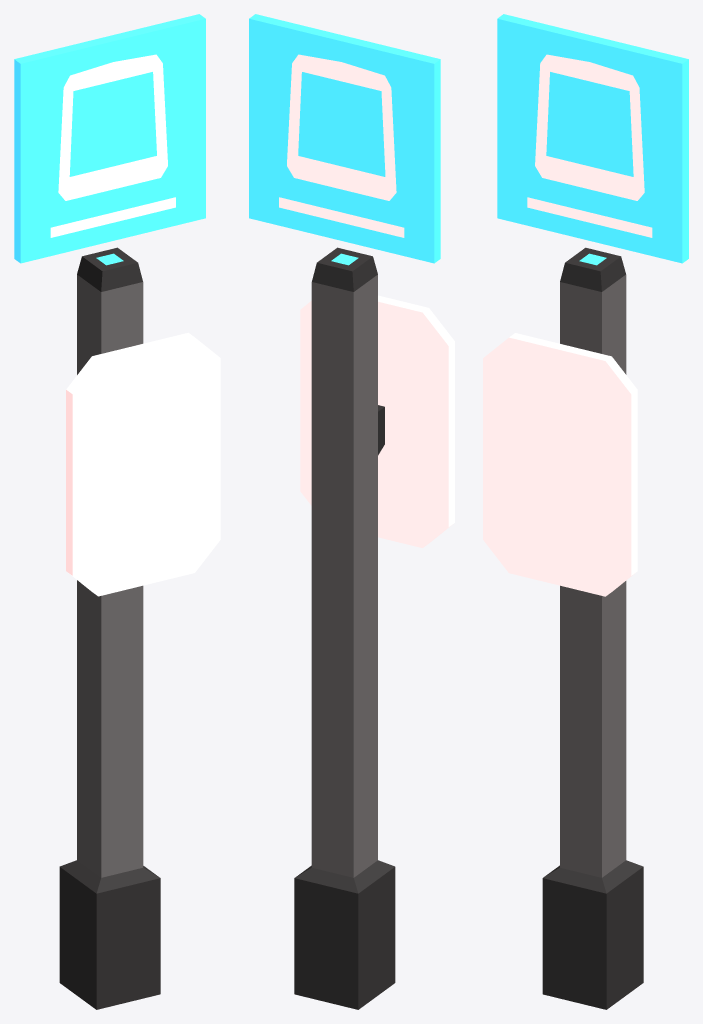
File: scifi_scifi-bus-stop-sign.fbx
3 views of the same model, side by side, from view 1: azimuth 30°, elevation 25°; view 2: azimuth 150°, elevation 25°; view 3: azimuth 330°, elevation 25° (orthographic).
Visible parts, largest first — view 1: scifi_scifi_bus_stop_sign; view 2: scifi_scifi_bus_stop_sign; view 3: scifi_scifi_bus_stop_sign.
Boxes of the visible parts, box(x1,y1,x2,y2) form: scifi_scifi_bus_stop_sign: box(14, 14, 220, 1009); scifi_scifi_bus_stop_sign: box(249, 14, 454, 1009); scifi_scifi_bus_stop_sign: box(483, 14, 688, 1009).
Size of the model in its own units: 40.83 by 200 by 20.9.
